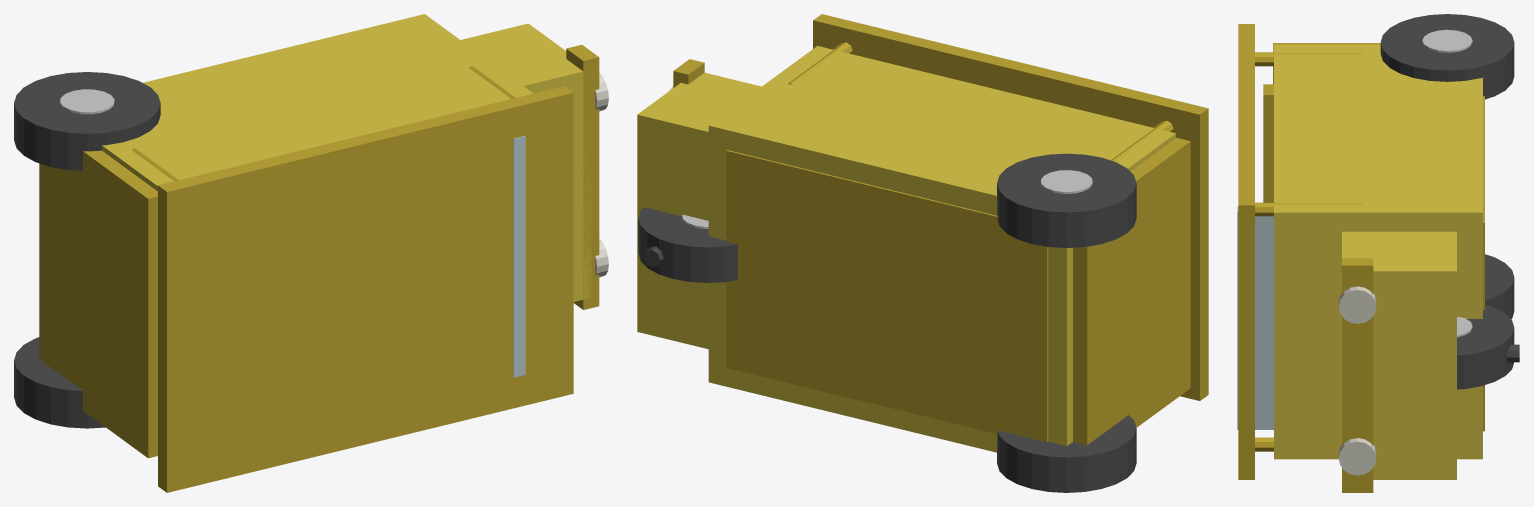
The model's file is tuktuk_moving_yellow.glb.
The picture shows the model from 3 angles, left to right: view 1: azimuth 30°, elevation 25°; view 2: azimuth 150°, elevation 25°; view 3: azimuth 270°, elevation 25°; orthographic projection. The views are drawn at different scales.
Visible parts, largest first — view 1: geometry_2, geometry_0, geometry_1, geometry_16, geometry_7, geometry_8, geometry_18, geometry_11, geometry_17; view 2: geometry_21, geometry_0, geometry_1, geometry_2, geometry_7, geometry_16, geometry_18, geometry_14, geometry_17; view 3: geometry_0, geometry_7, geometry_2, geometry_16, geometry_8, geometry_11, geometry_14, geometry_18, geometry_12, geometry_9, geometry_10, geometry_17 (+3 smaller).
Part boxes in pixels (x1,y1,x2,y2): geometry_2: (158,86,573,492); geometry_0: (102,14,532,191); geometry_1: (39,150,157,458); geometry_16: (14,72,160,170); geometry_7: (461,23,591,301); geometry_8: (566,44,599,309); geometry_18: (14,337,105,428); geometry_11: (513,136,525,377); geometry_17: (60,89,114,114); geometry_21: (726,150,1048,442); geometry_0: (708,46,1175,452); geometry_1: (1073,137,1190,444); geometry_2: (813,14,1208,400); geometry_7: (637,72,761,349); geometry_16: (997,153,1136,247); geometry_18: (997,415,1136,492); geometry_14: (638,207,737,282); geometry_17: (1041,170,1092,193); geometry_0: (1274,44,1482,459); geometry_7: (1342,231,1456,479); geometry_2: (1238,24,1254,479); geometry_16: (1380,14,1514,99); geometry_8: (1342,258,1373,492); geometry_11: (1237,206,1273,429); geometry_14: (1457,304,1514,389); geometry_18: (1485,254,1514,319); geometry_12: (1263,84,1273,202); geometry_9: (1338,286,1376,323); geometry_10: (1338,438,1376,475); geometry_17: (1422,29,1472,52).
Bounding box in the file's own units: 2.65 × 1.45 × 1.35.
